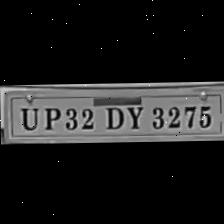2: (78, 102, 96, 129), (164, 102, 182, 128)
3: (147, 101, 165, 128), (62, 103, 78, 130)
5: (196, 100, 212, 127)
7: (180, 100, 196, 127)
D: (100, 101, 124, 128)
P: (38, 103, 60, 130)
U: (16, 102, 38, 130)
Y: (124, 100, 144, 129)
